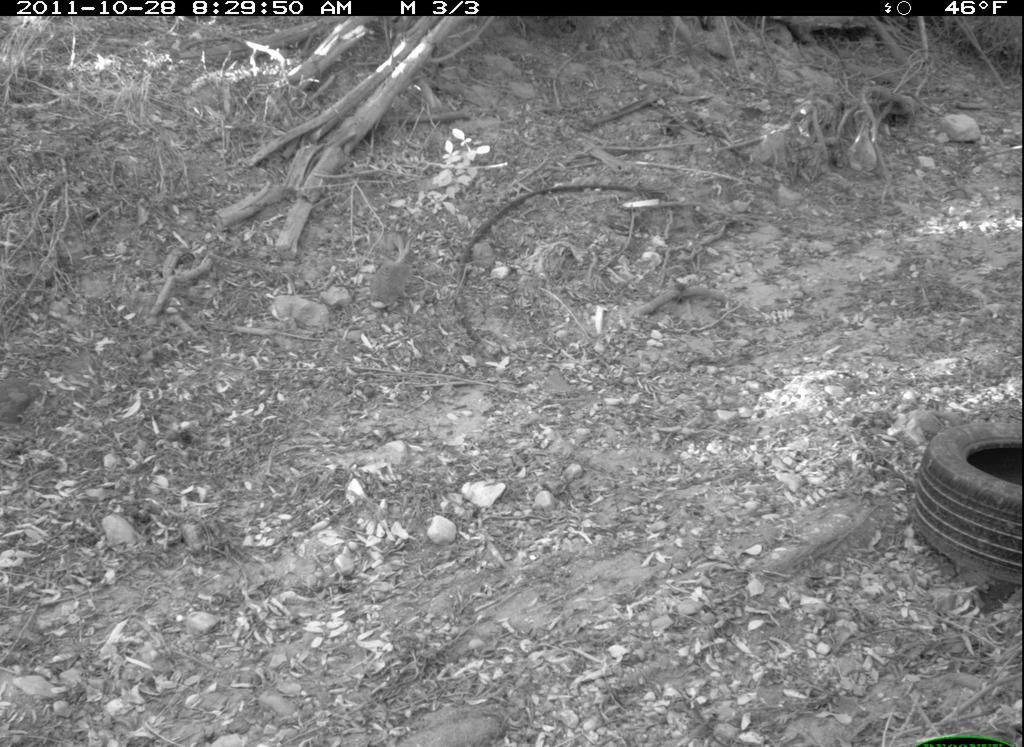rabbit: (359, 229, 426, 320)
